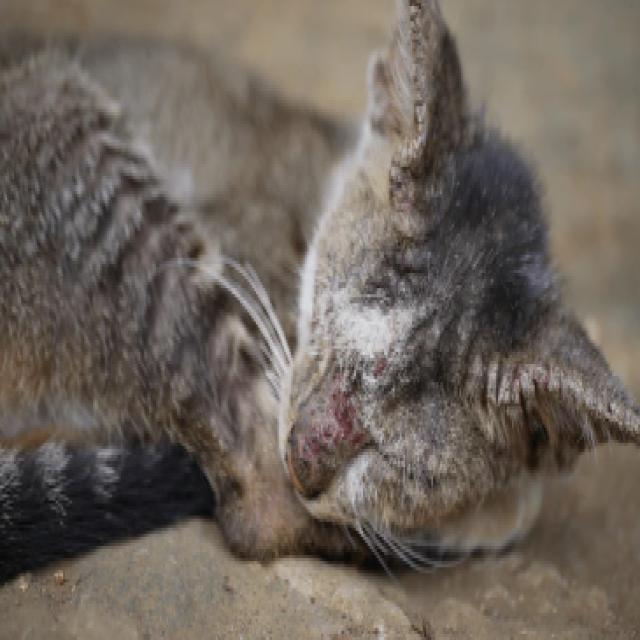Mange: (467, 329, 640, 455), (311, 346, 393, 458), (396, 0, 438, 200)
